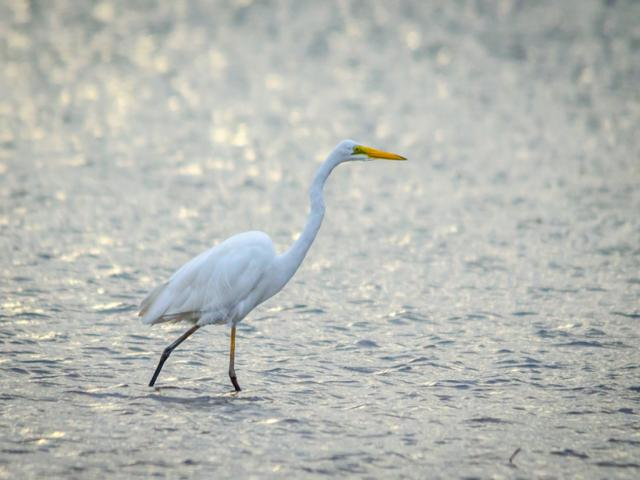Bird: (134, 135, 406, 396)
